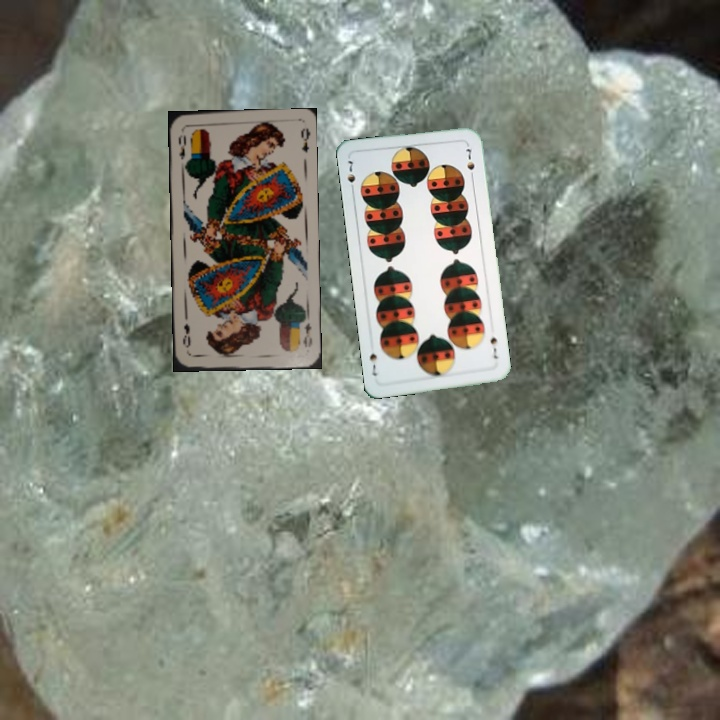EO: (299, 319, 315, 350), (174, 131, 189, 162)
S7: (343, 156, 358, 195), (486, 332, 500, 361)
